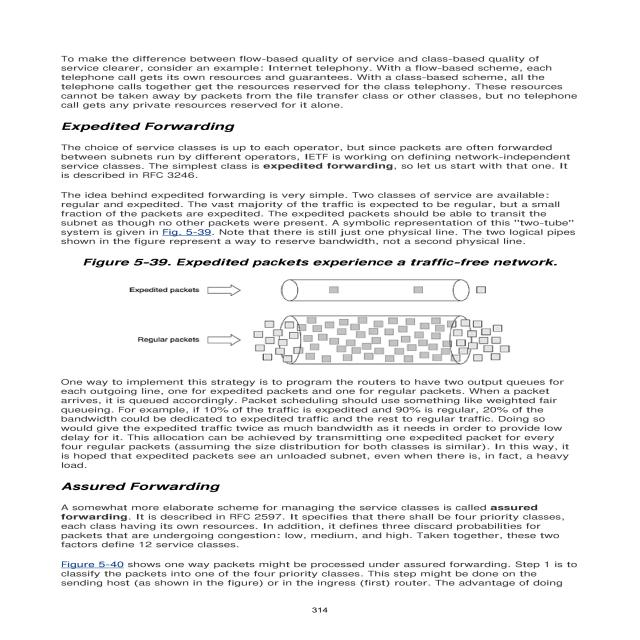diagram: (36, 249, 599, 367)
